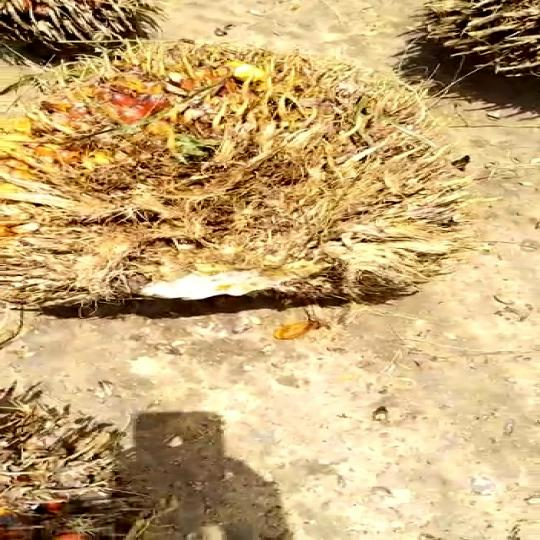terlalu masak: (0, 45, 467, 326)
